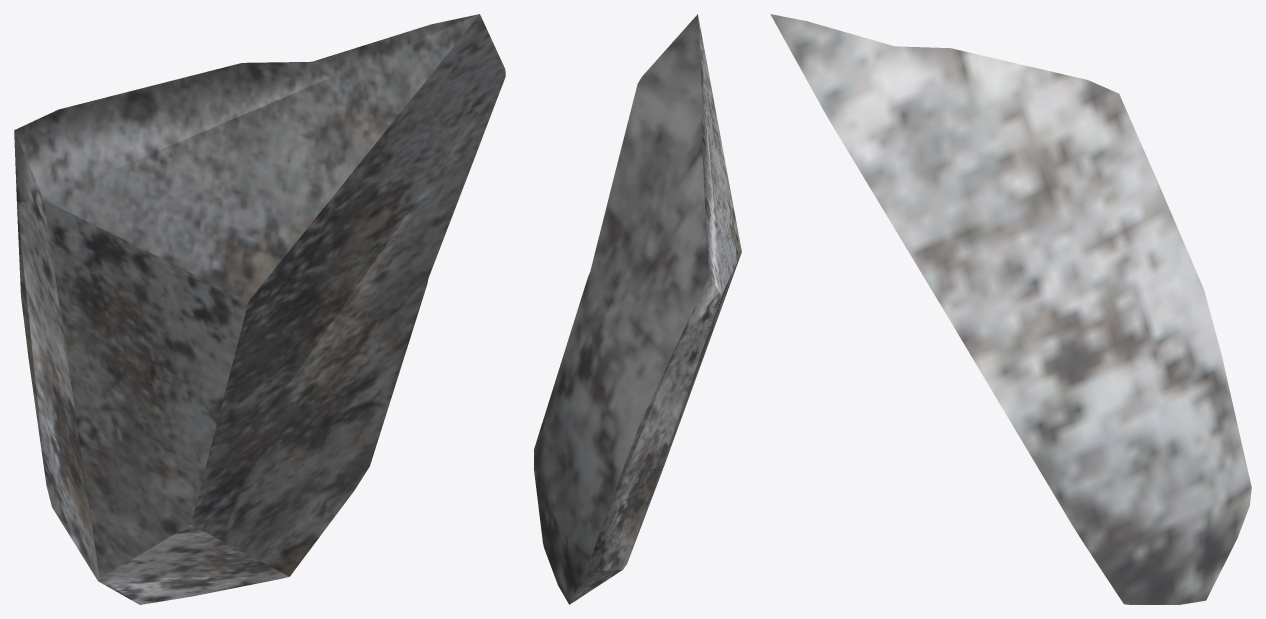
The model's file is Asteroid_Large_001_02_006_03_023.fbx.
3 views of the same model, side by side, from view 1: azimuth 30°, elevation 25°; view 2: azimuth 150°, elevation 25°; view 3: azimuth 270°, elevation 25° (orthographic). The views are drawn at different scales.
Parts seen in each view (by area): view 1: Asteroid_Large_001_02_006_03_023; view 2: Asteroid_Large_001_02_006_03_023; view 3: Asteroid_Large_001_02_006_03_023.
Part boxes in pixels (bbox=[...]): Asteroid_Large_001_02_006_03_023: bbox=[14, 14, 505, 604]; Asteroid_Large_001_02_006_03_023: bbox=[534, 14, 741, 604]; Asteroid_Large_001_02_006_03_023: bbox=[770, 14, 1251, 604].
Bounding box in the file's own units: 4.36 × 9.97 × 7.13.
